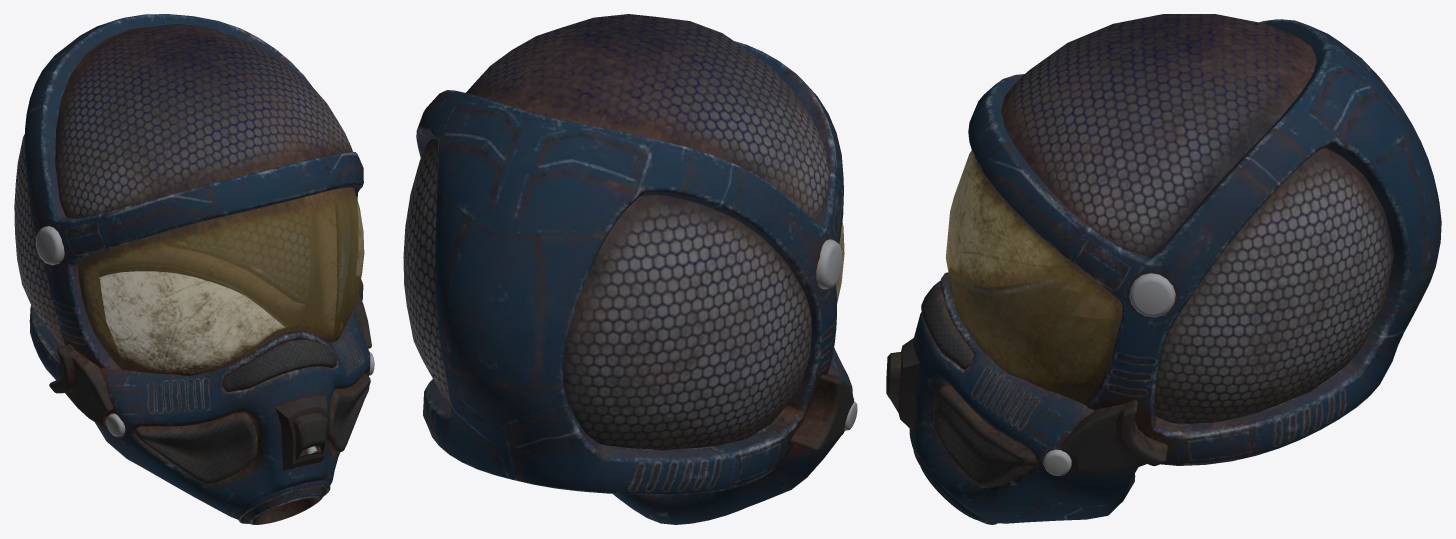
The model's file is sci_fi_space_helmet.glb.
3 views of the same model, side by side, from view 1: azimuth 30°, elevation 25°; view 2: azimuth 150°, elevation 25°; view 3: azimuth 270°, elevation 25° (orthographic). The views are drawn at different scales.
Visible parts, largest first — view 1: pCylinder15; view 2: pCylinder15; view 3: pCylinder15.
Part boxes in pixels (left/top/right/bottom): pCylinder15: left=14, top=14, right=374, bottom=524; pCylinder15: left=403, top=14, right=857, bottom=524; pCylinder15: left=886, top=14, right=1441, bottom=524.
Size of the model in its own units: 0.2144 by 0.2717 by 0.2809.
1 material, 1 textured.
